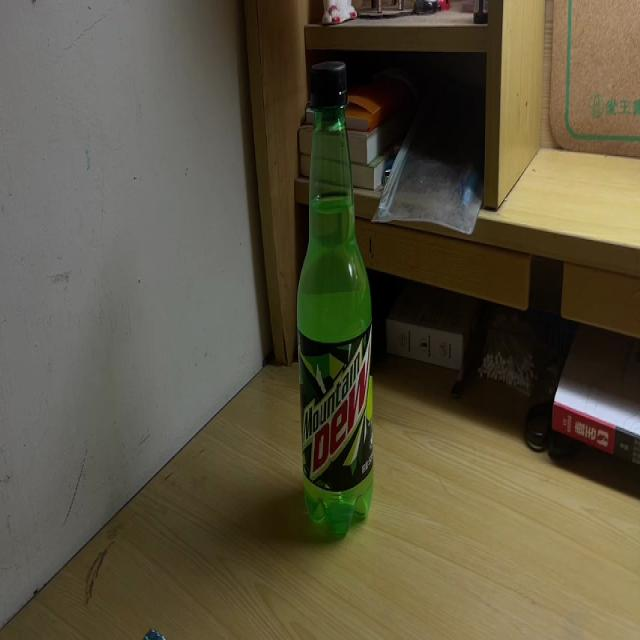Mountain-Dew: (295, 58, 374, 539)
